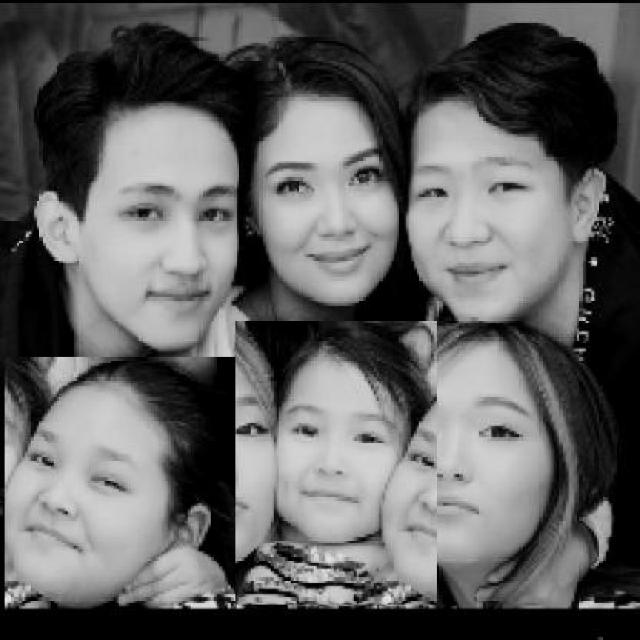child: (3, 357, 288, 637), (234, 320, 437, 606)
